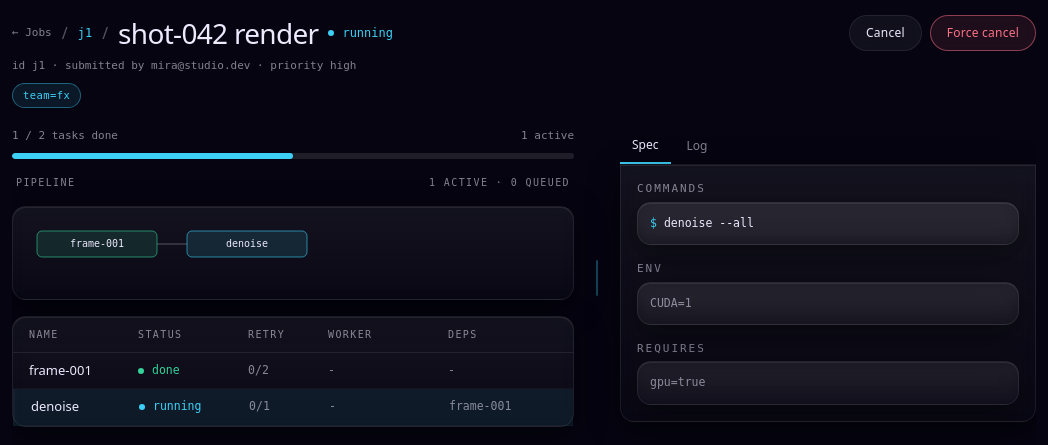
the Log tab shows LIVE for a running task and HISTORY for a terminal one
The width and height of the screenshot is (1048, 445).
Expected: the heading "shot-042 render" is shown, [118,12,318,54]
Click the tab "Log" at x=697, y=146, box [674,128,719,164]
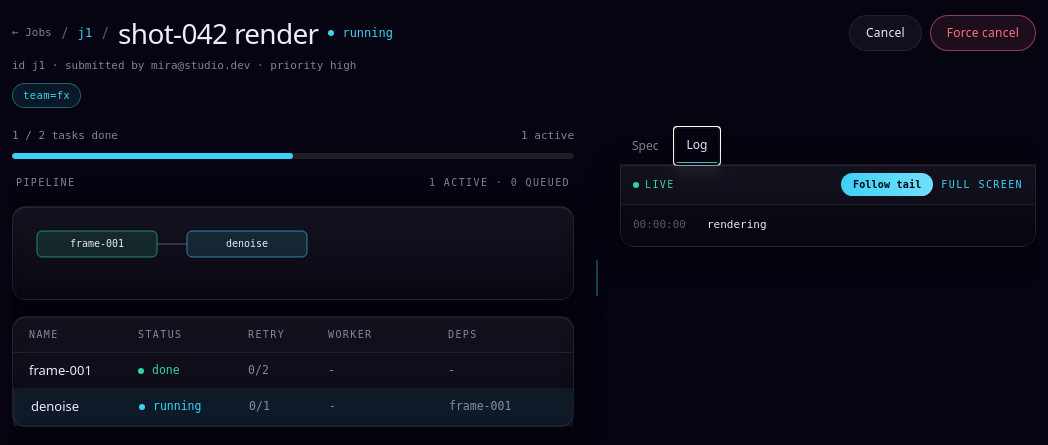
Expected: the text "LIVE" is shown, [633,177,675,192]
Click the row "frame-001 done 0/2 - -" at x=293, y=371, box [13,353,573,389]
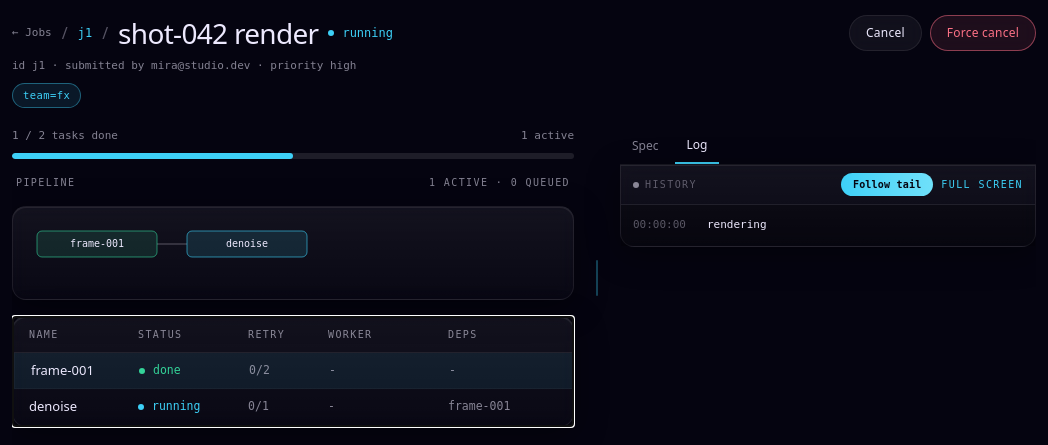
Expected: the text "HISTORY" is shown, [633,177,697,192]
Expected: the text "LIVE" is gone
